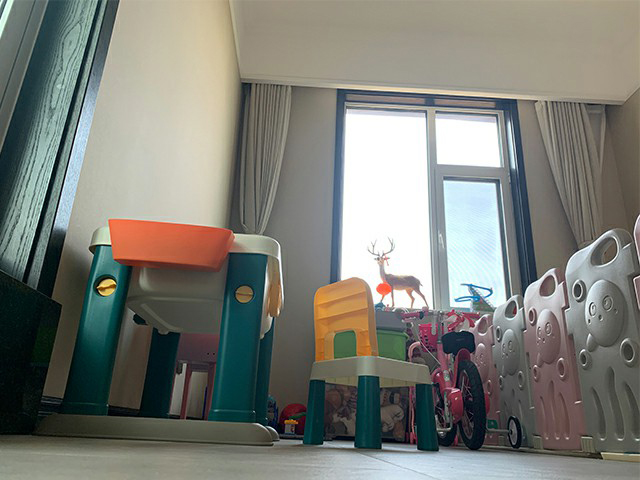stool: (302, 275, 439, 451)
table: (34, 218, 285, 448)
